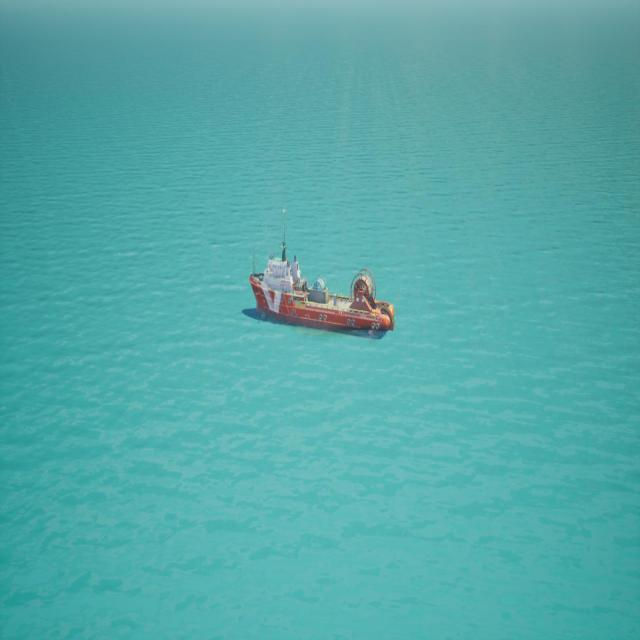tug boat: (246, 206, 397, 344)
